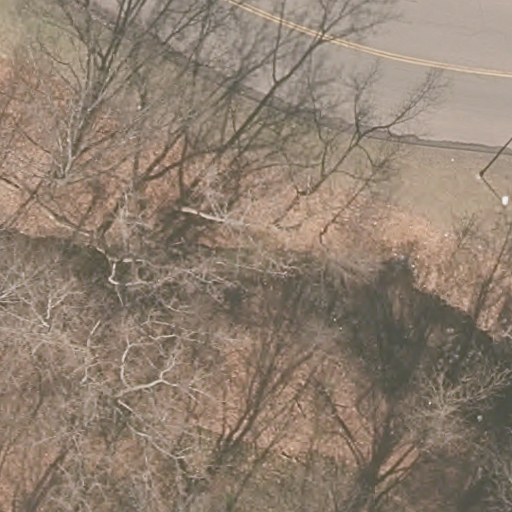DT: (477, 171, 511, 211)
